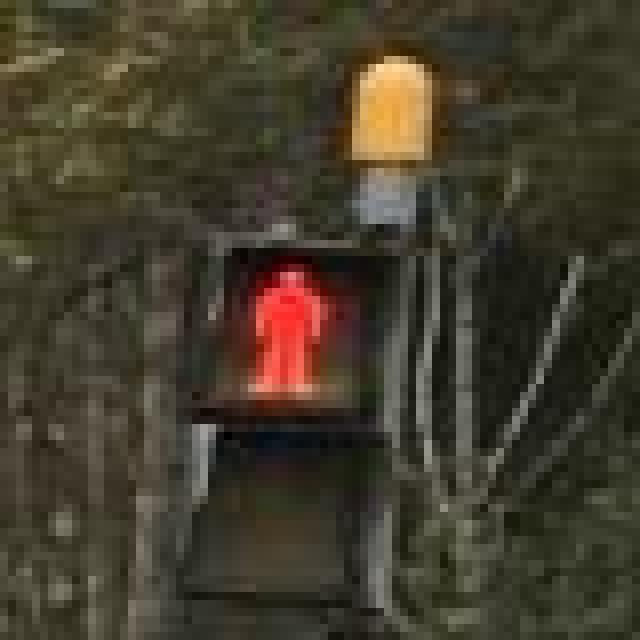redlight: (160, 232, 400, 600)
